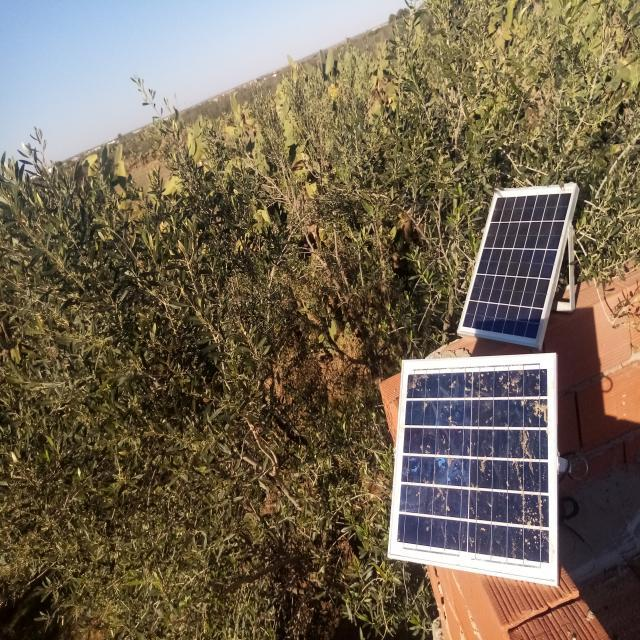faulty: (388, 353, 556, 589)
no faulty: (460, 187, 577, 347)
